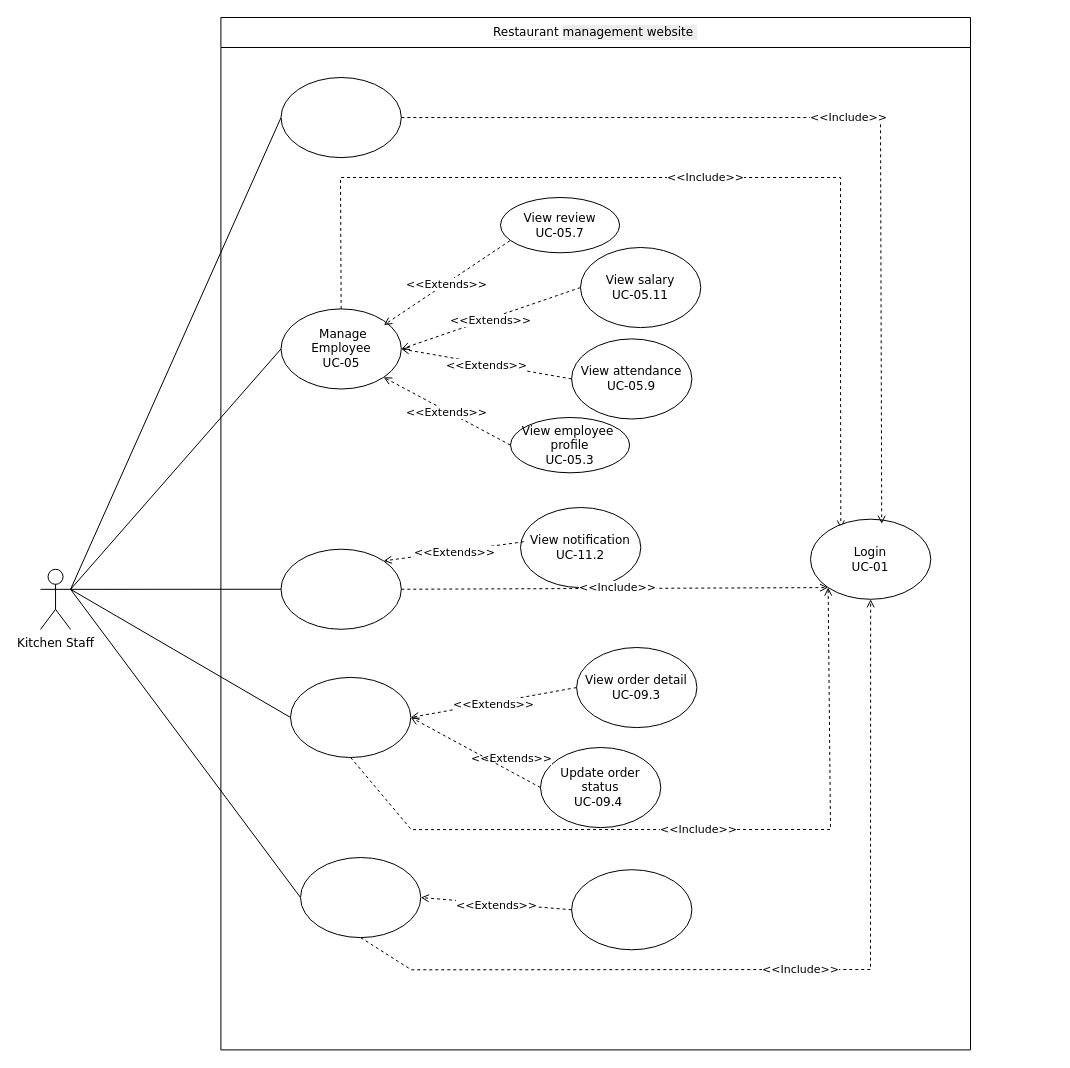
Image size: 1070x1068. Some labels were removed from this diagram. Each missing label, with the centre of its shape:
Logout UC-02: point (340, 117)
Manage Inventory UC-08: point (360, 897)
Manage Notification UC-11: point (340, 588)
Manage Order UC-09: point (350, 717)
View list inventory UC-08.2: point (631, 909)
